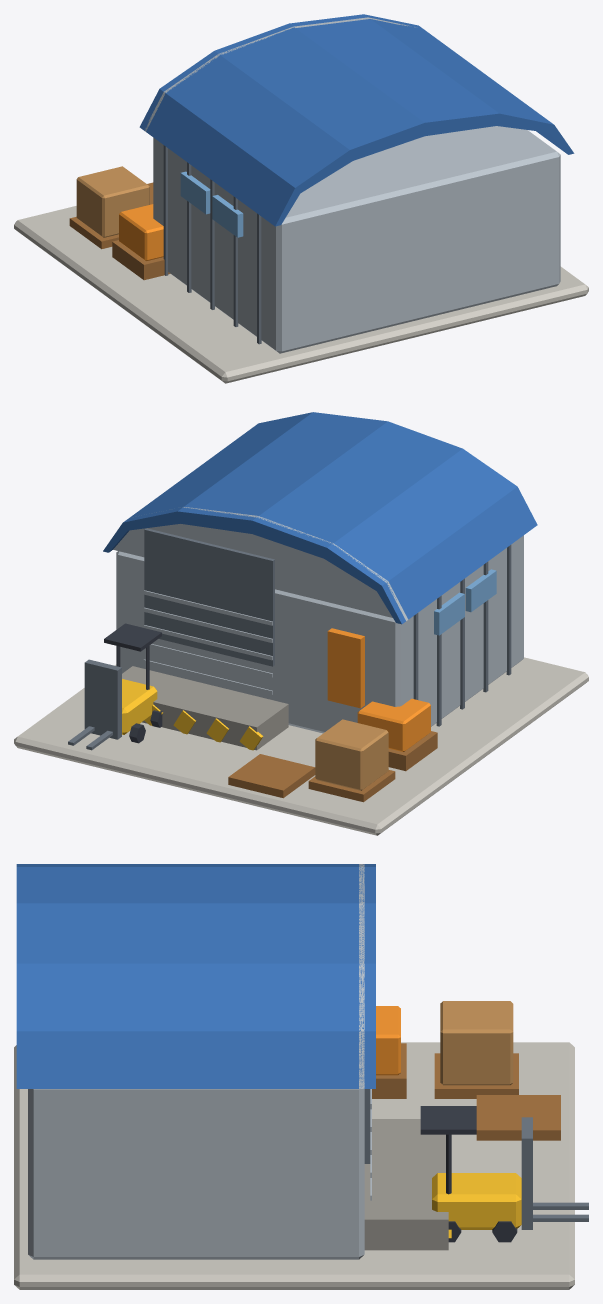
Rendered from kit-cidade-galpao.glb.
3 views of the same model, one above another, from view 1: azimuth 30°, elevation 25°; view 2: azimuth 150°, elevation 25°; view 3: azimuth 270°, elevation 25° (orthographic). The views are drawn at different scales.
Visible parts, largest first — view 1: corpo; view 2: corpo; view 3: corpo.
Boxes of the visible parts, x1,y1,x2,y2 form: corpo: [14, 14, 588, 383]; corpo: [14, 412, 588, 835]; corpo: [14, 864, 588, 1289].
Size of the model in its own units: 2 by 1.11 by 2.05.
